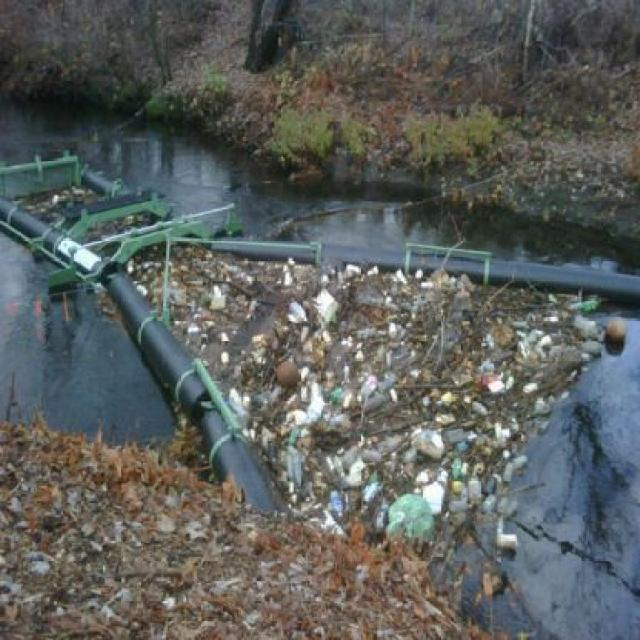garbage: (142, 239, 469, 558), (0, 433, 428, 638), (429, 282, 596, 451), (463, 103, 640, 194), (20, 177, 99, 208)
